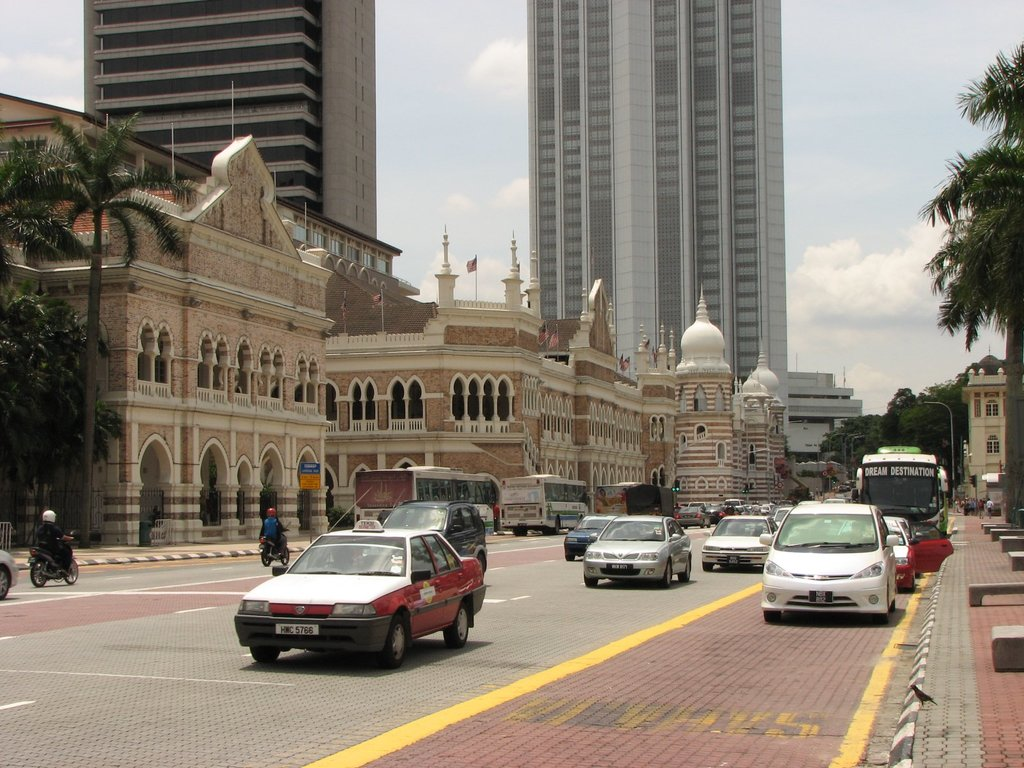Car: (226, 485, 498, 676), (562, 498, 953, 622), (757, 499, 902, 624), (380, 495, 492, 595), (580, 516, 695, 591), (887, 517, 964, 591), (702, 512, 776, 571), (556, 508, 617, 563), (0, 542, 19, 608), (686, 500, 711, 517), (773, 504, 791, 524), (721, 497, 746, 508), (760, 500, 776, 510)
